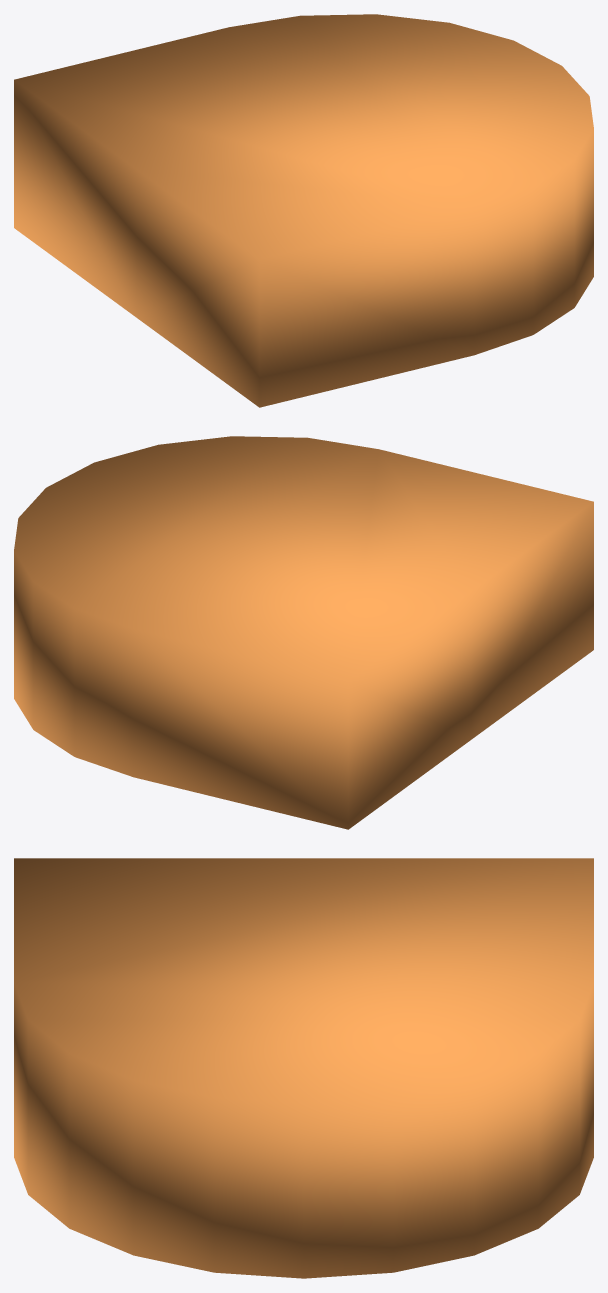
The model's file is AND-transformed.glb.
3 renders of one model, top to bottom at view 1: azimuth 30°, elevation 25°; view 2: azimuth 150°, elevation 25°; view 3: azimuth 270°, elevation 25°, orthographic. The views are drawn at different scales.
Parts seen in each view (by area): view 1: 4; view 2: 4; view 3: 4.
Part boxes in pixels (x1=…): 4: x1=14, y1=14, x2=593, y2=407; 4: x1=14, y1=436, x2=593, y2=829; 4: x1=14, y1=858, x2=593, y2=1278.
Bounding box in the file's own units: 3 × 1 × 3.
